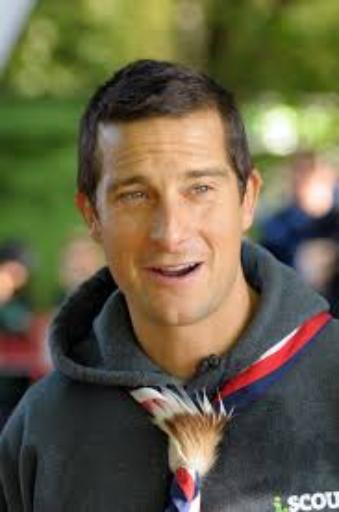left_eye: (186, 183, 220, 200)
left_lip_corner: (195, 259, 210, 277)
right_eye: (117, 190, 153, 208)
right_lip_corner: (142, 263, 158, 279)
